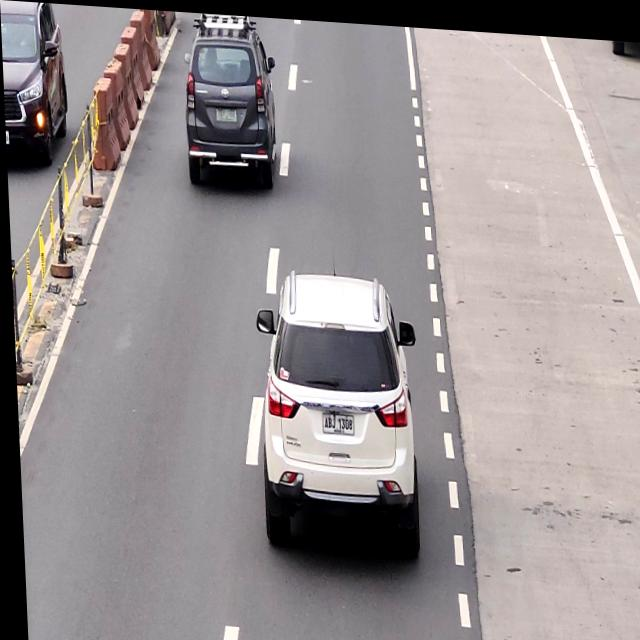Car: (256, 267, 417, 541), (182, 10, 272, 186)
License-Plate: (317, 407, 352, 436), (213, 102, 237, 121)
